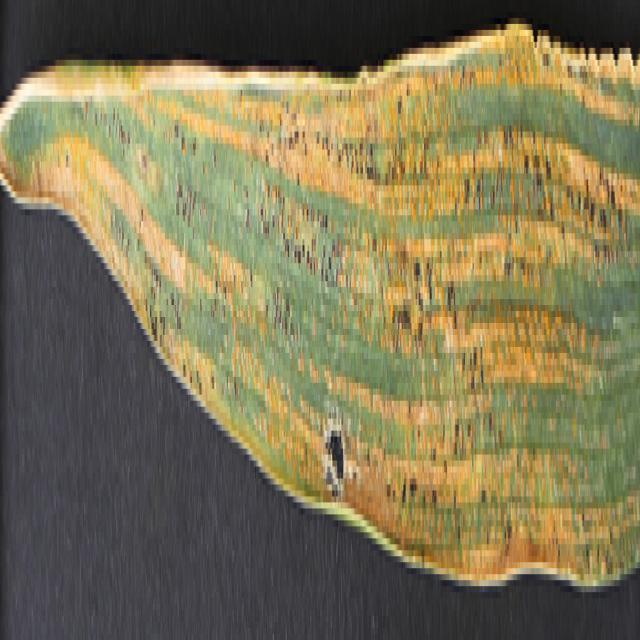leaf rust: (0, 6, 640, 574)
